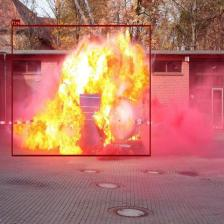fire: (11, 25, 150, 156)
